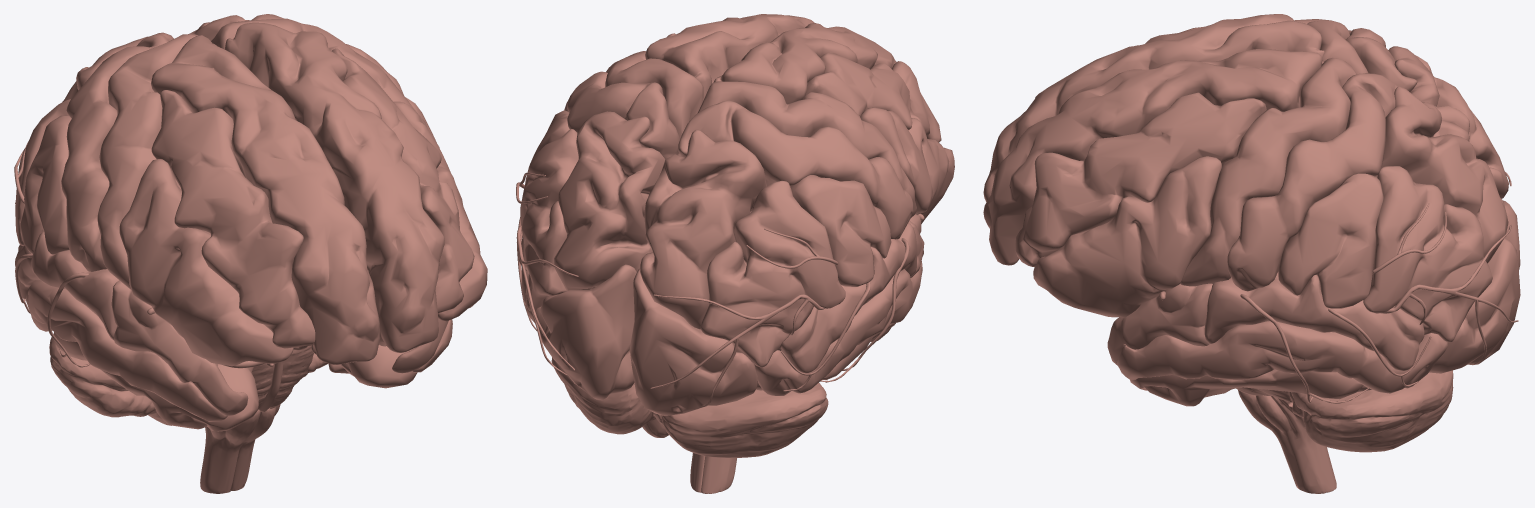
Rendered from brain.glb.
The picture shows the model from 3 angles, left to right: view 1: azimuth 30°, elevation 25°; view 2: azimuth 150°, elevation 25°; view 3: azimuth 270°, elevation 25°; orthographic projection. The views are drawn at different scales.
Parts seen in each view (by area): view 1: frontal__FJ1834, frontal__FJ1833, frontal__FJ1788, frontal__FJ1745, frontal__FJ1801, parietal__FJ1798, temporal__FJ1790, frontal__FJ1787, temporal__FJ1838, parietal__FJ1842, temporal__FJ1840, cerebellum__FJ1830 (+13 smaller); view 2: parietal__FJ1733, parietal__FJ1836, parietal__FJ1835, occipital__FJ1792, parietal__FJ1798, occipital__FJ1791, cerebellum__FJ1830, frontal__FJ1834, parietal__FJ1842, frontal__FJ1801, parietal__FJ1732, frontal__FJ1833 (+15 smaller); view 3: frontal__FJ1833, frontal__FJ1787, frontal__FJ1744, parietal__FJ1732, parietal__FJ1797, temporal__FJ1789, frontal__FJ1800, frontal__FJ1834, parietal__FJ1841, parietal__FJ1835, temporal__FJ1839, cerebellum__FJ1781 (+9 smaller).
Boxes of the visible parts, box(x1,y1,x2,y2) form: frontal__FJ1834: box(151, 35, 380, 364); frontal__FJ1833: box(225, 22, 444, 352); frontal__FJ1788: box(151, 90, 315, 348); frontal__FJ1745: box(119, 159, 293, 366); frontal__FJ1801: box(97, 34, 198, 289); parietal__FJ1798: box(61, 32, 173, 271); temporal__FJ1790: box(26, 280, 227, 421); frontal__FJ1787: box(332, 48, 474, 313); temporal__FJ1838: box(111, 280, 248, 415); parietal__FJ1842: box(20, 115, 71, 254); temporal__FJ1840: box(15, 231, 119, 340); cerebellum__FJ1830: box(49, 337, 171, 425); parietal__FJ1733: box(700, 180, 845, 367); parietal__FJ1836: box(640, 129, 766, 329); parietal__FJ1835: box(554, 111, 665, 290); occipital__FJ1792: box(629, 268, 757, 415); parietal__FJ1798: box(678, 100, 913, 239); occipital__FJ1791: box(535, 264, 636, 400); cerebellum__FJ1830: box(661, 382, 828, 457); frontal__FJ1834: box(714, 23, 896, 104); parietal__FJ1842: box(790, 175, 891, 286); frontal__FJ1801: box(697, 81, 916, 217); parietal__FJ1732: box(520, 129, 578, 311); frontal__FJ1833: box(645, 14, 814, 100); frontal__FJ1833: box(983, 49, 1323, 265); frontal__FJ1787: box(1015, 92, 1266, 266); frontal__FJ1744: box(1033, 156, 1221, 317); parietal__FJ1732: box(1363, 166, 1492, 342); parietal__FJ1797: box(1227, 73, 1397, 291); temporal__FJ1789: box(1117, 321, 1447, 393); frontal__FJ1800: box(1180, 57, 1356, 286); frontal__FJ1834: box(983, 14, 1324, 202); parietal__FJ1841: box(1278, 173, 1383, 308); parietal__FJ1835: box(1375, 86, 1508, 263); temporal__FJ1839: box(1204, 272, 1424, 370); cerebellum__FJ1781: box(1289, 370, 1453, 452).
Bounding box in the file's own units: 0.1421 × 0.166 × 0.18.
